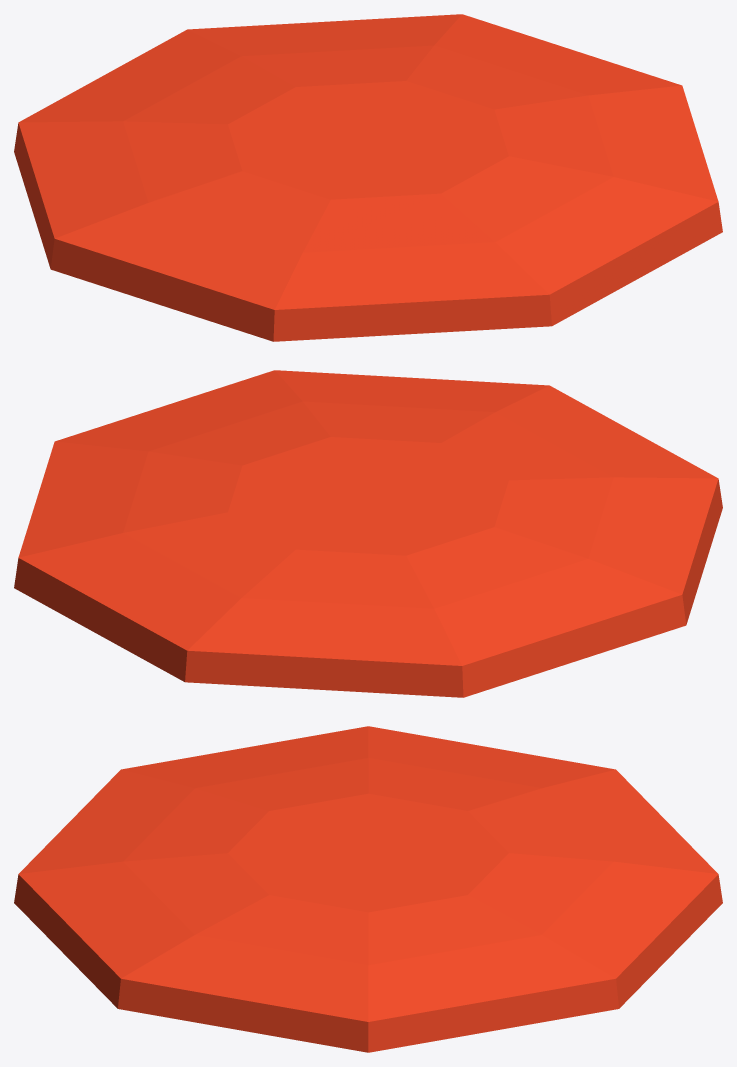
The model's file is SM_Frizbee_B_City.fbx.
The picture shows the model from 3 angles, top to bottom: view 1: azimuth 30°, elevation 25°; view 2: azimuth 150°, elevation 25°; view 3: azimuth 270°, elevation 25°; orthographic projection. The views are drawn at different scales.
Parts seen in each view (by area): view 1: SM_Frizbee_B_City; view 2: SM_Frizbee_B_City; view 3: SM_Frizbee_B_City.
Boxes of the visible parts, left/top/right/bottom form: SM_Frizbee_B_City: left=14, top=14, right=722, bottom=341; SM_Frizbee_B_City: left=14, top=370, right=722, bottom=697; SM_Frizbee_B_City: left=14, top=726, right=722, bottom=1052.
Size of the model in its own units: 0.2798 by 0.0231 by 0.2798.
